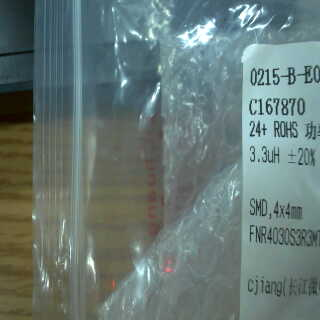3.3uH: (243, 142, 282, 174)
